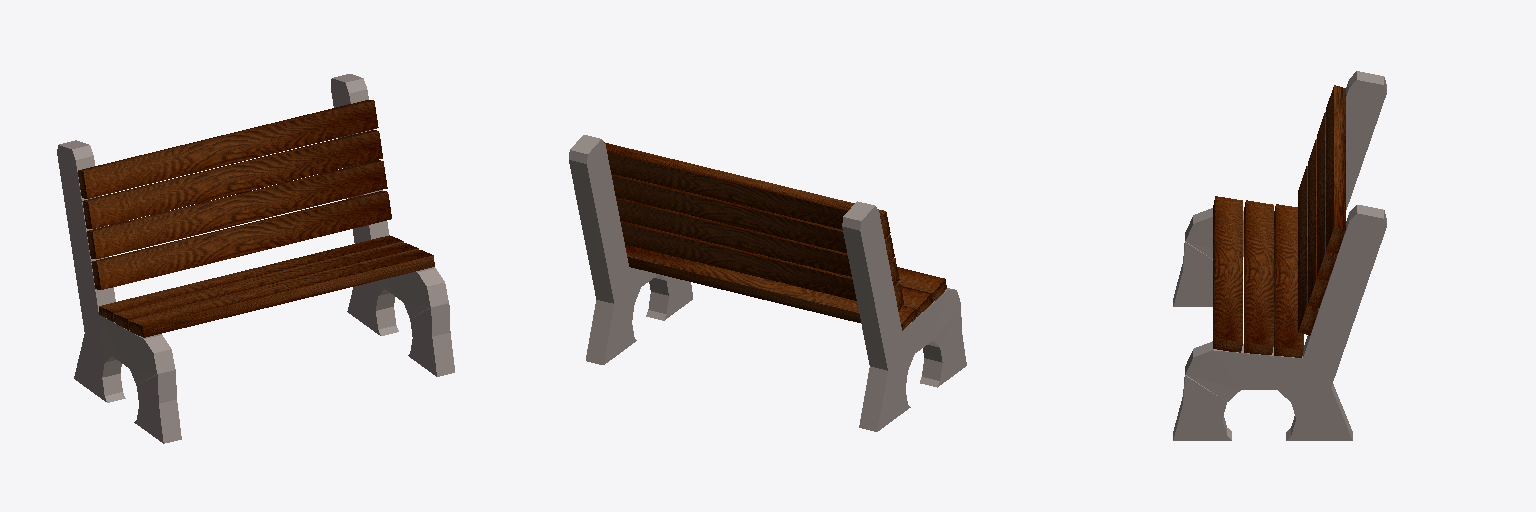
3 views of the same model, side by side, from view 1: azimuth 30°, elevation 25°; view 2: azimuth 150°, elevation 25°; view 3: azimuth 270°, elevation 25° (orthographic).
Parts seen in each view (by area): view 1: Diff_Circle, Cube.002_Cube.003, Cube.007, Cube.001_Cube.002, Cube, Diff.001_Circle.002, Cube.003_Cube.004, Cube.005_Cube.006, Cube.004_Cube.005; view 2: Diff_Circle, Diff.001_Circle.002, Cube, Cube.002_Cube.003, Cube.007, Cube.001_Cube.002, Cube.005_Cube.006, Cube.003_Cube.004, Cube.004_Cube.005; view 3: Diff.001_Circle.002, Diff_Circle, Cube.003_Cube.004, Cube.004_Cube.005, Cube.005_Cube.006, Cube, Cube.002_Cube.003, Cube.007, Cube.001_Cube.002.
Part boxes in pixels (left/top/right/bottom): Diff_Circle: left=57, top=140, right=181, bottom=443; Cube.002_Cube.003: left=91, top=191, right=391, bottom=289; Cube.007: left=82, top=130, right=382, bottom=228; Cube.001_Cube.002: left=87, top=160, right=387, bottom=258; Cube: left=78, top=100, right=378, bottom=198; Diff.001_Circle.002: left=331, top=74, right=454, bottom=376; Cube.003_Cube.004: left=129, top=250, right=434, bottom=337; Cube.005_Cube.006: left=99, top=235, right=403, bottom=321; Cube.004_Cube.005: left=114, top=243, right=418, bottom=330; Diff_Circle: left=842, top=201, right=966, bottom=431; Diff.001_Circle.002: left=569, top=135, right=692, bottom=364; Cube: left=604, top=142, right=890, bottom=238; Cube.002_Cube.003: left=620, top=221, right=903, bottom=310; Cube.007: left=611, top=173, right=894, bottom=262; Cube.001_Cube.002: left=616, top=197, right=899, bottom=285; Cube.005_Cube.006: left=625, top=245, right=915, bottom=330; Cube.003_Cube.004: left=897, top=267, right=946, bottom=302; Cube.004_Cube.005: left=901, top=287, right=931, bottom=316; Diff.001_Circle.002: left=1173, top=205, right=1386, bottom=440; Diff_Circle: left=1173, top=71, right=1386, bottom=306; Cube.003_Cube.004: left=1213, top=196, right=1242, bottom=352; Cube.004_Cube.005: left=1244, top=200, right=1273, bottom=354; Cube.005_Cube.006: left=1274, top=204, right=1303, bottom=357; Cube: left=1326, top=85, right=1345, bottom=253; Cube.002_Cube.003: left=1298, top=166, right=1317, bottom=335; Cube.007: left=1317, top=112, right=1336, bottom=280; Cube.001_Cube.002: left=1308, top=139, right=1327, bottom=307.
Size of the model in its own units: 1.95 by 1.46 by 1.23.
Materials: 2 (1 with a texture image).